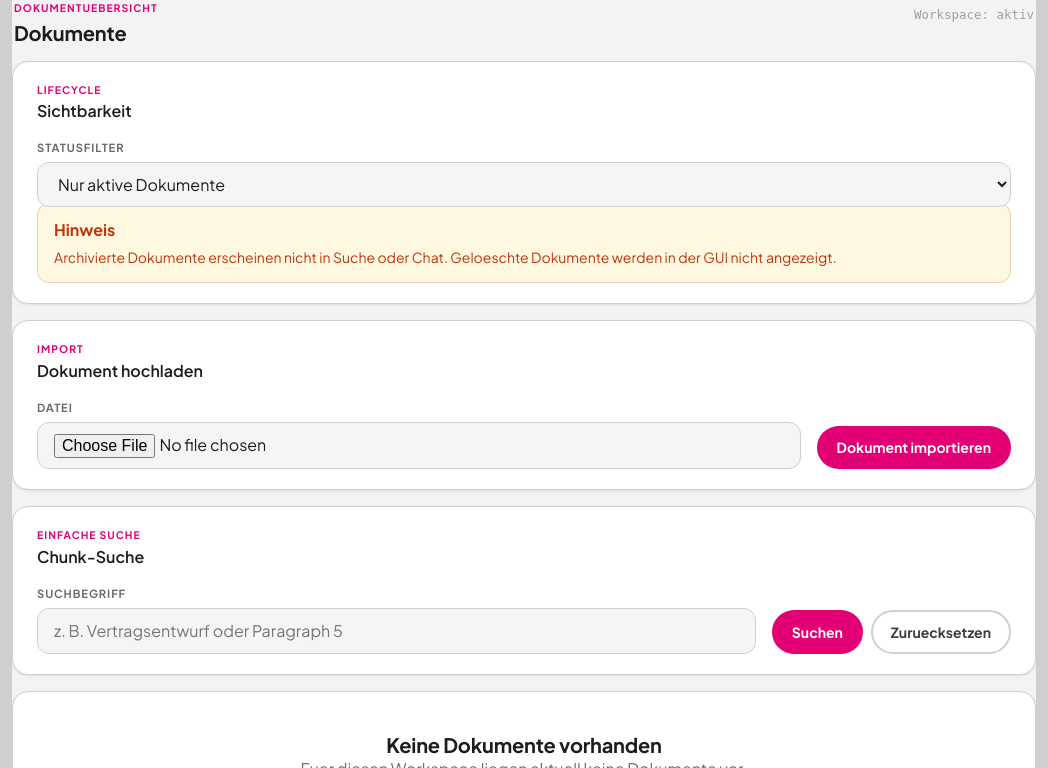
it: DocumentsPage › ignores stale parallel search responses
Check: the heading "Keine Dokumente vorhanden" is shown, box x1=386 y1=732 x2=662 y2=757
Type "slow" into the search field labelled "Suchbegriff" at (396, 631), box x1=37 y1=608 x2=756 y2=654
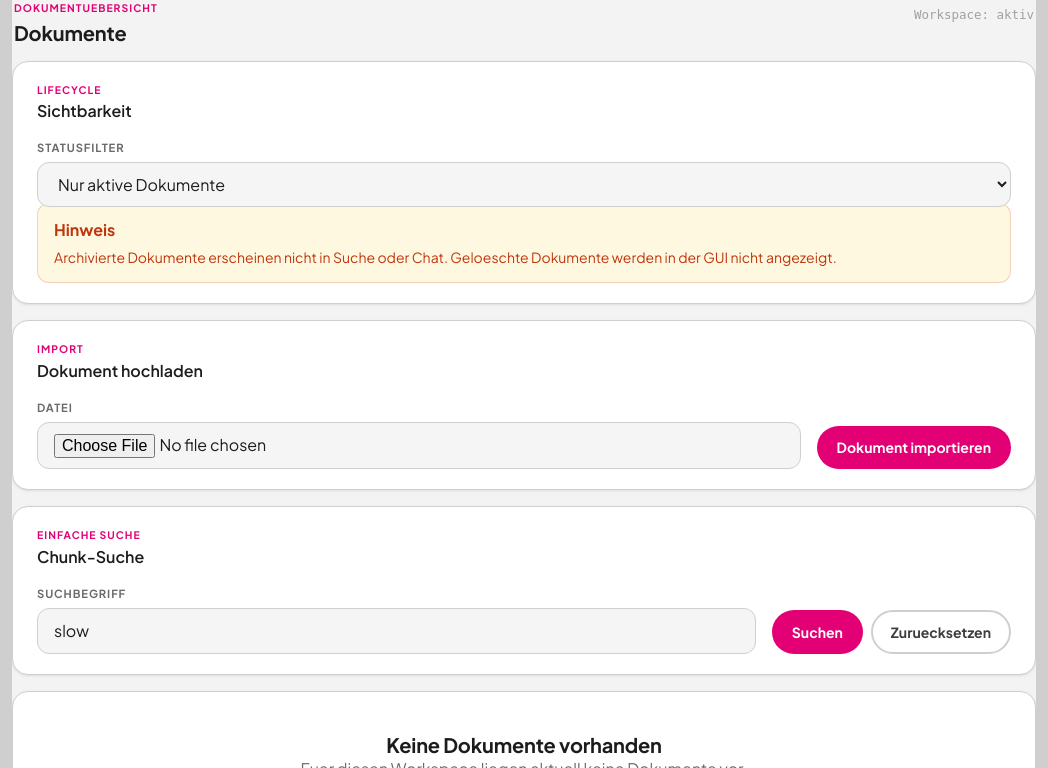
Click the button "Suchen" at (817, 632), box x1=772 y1=610 x2=863 y2=654
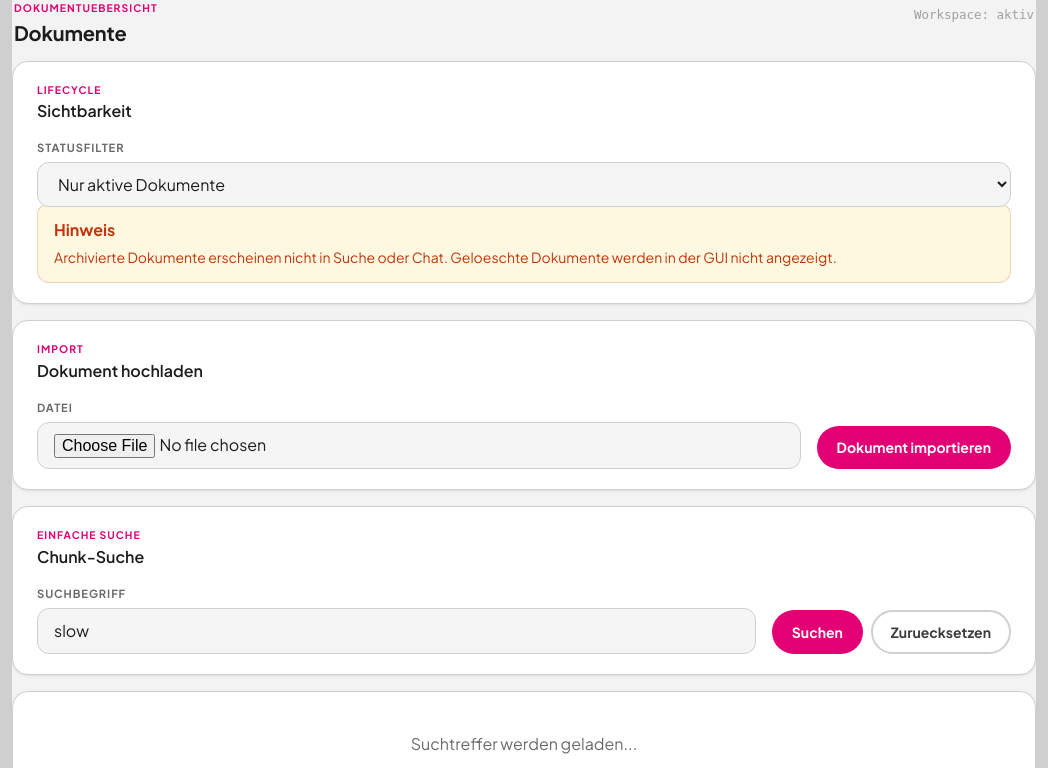
Replace the text in the search field labelled "Suchbegriff" with "fast" at (396, 631), box x1=37 y1=608 x2=756 y2=654
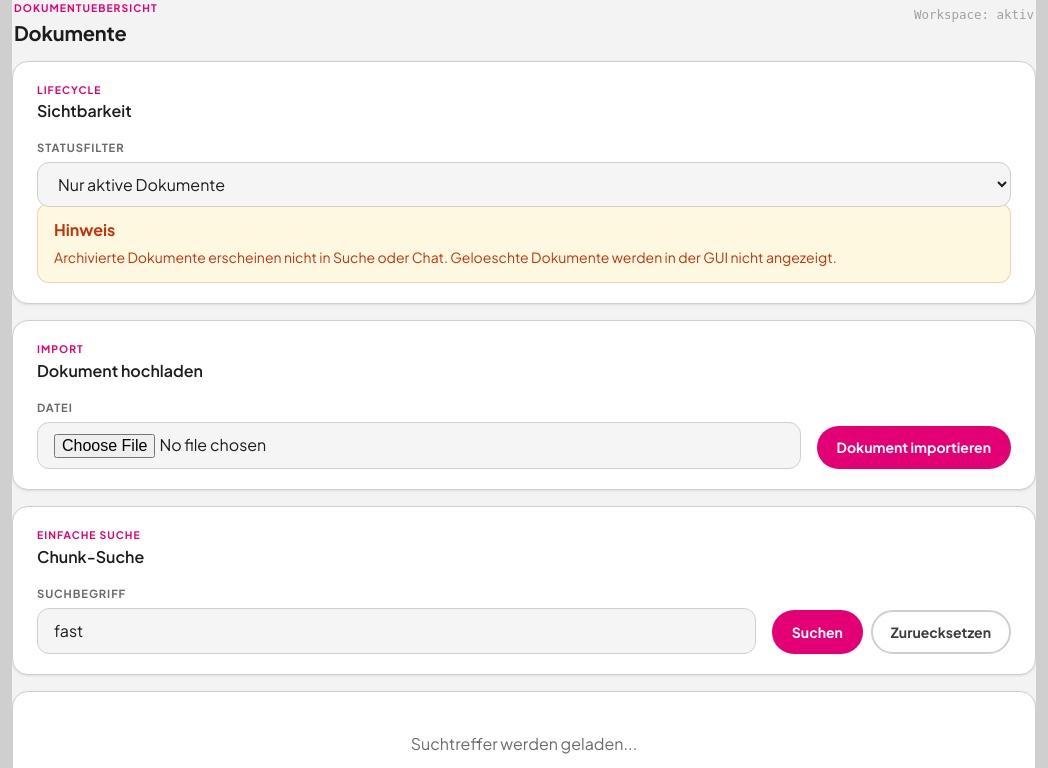
Click the button "Suchen" at (817, 632), box x1=772 y1=610 x2=863 y2=654
(page scrolled)
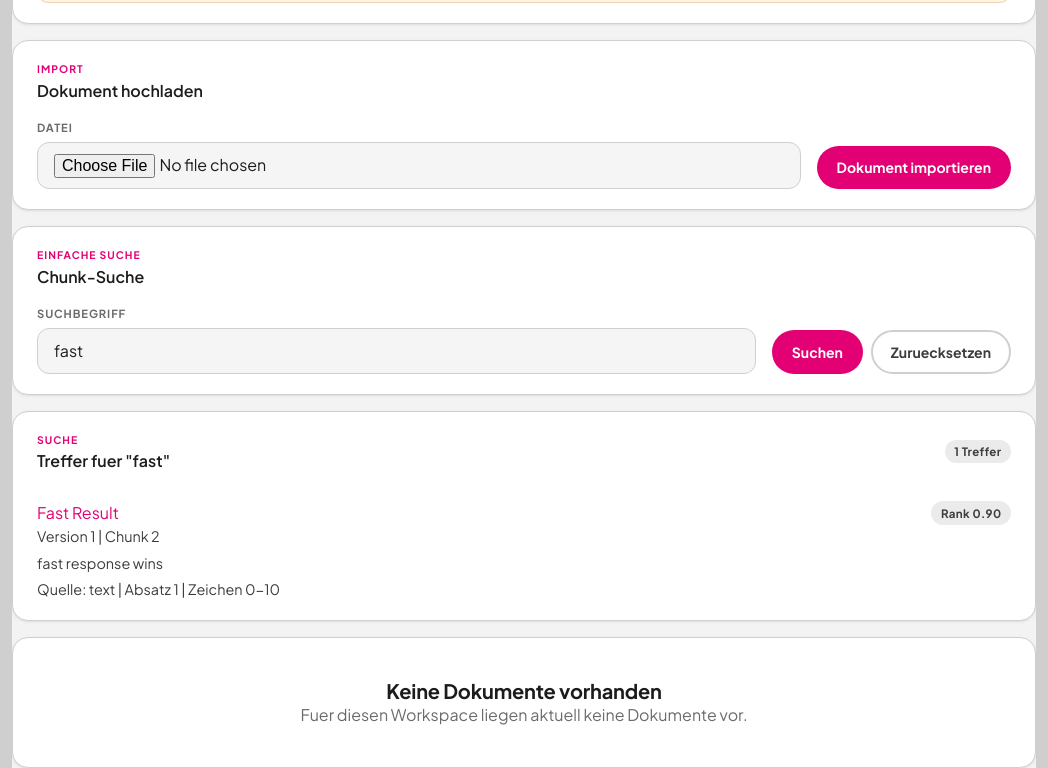
Check: the link "Fast Result" is shown, box x1=37 y1=502 x2=119 y2=523
